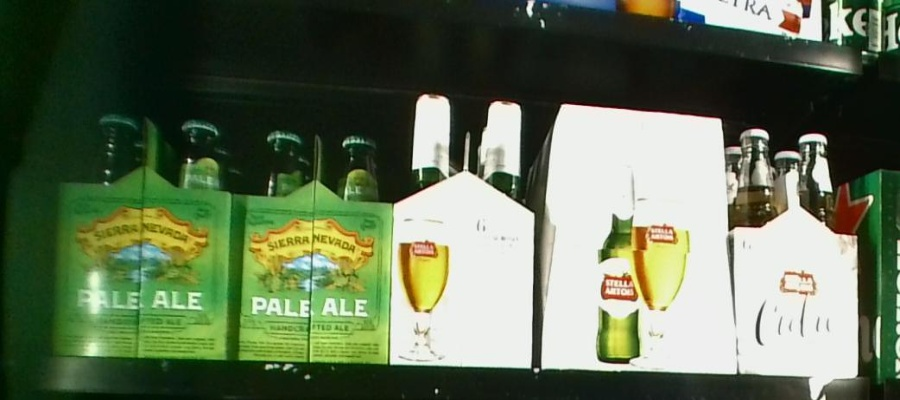bottle: (541, 95, 732, 376), (47, 118, 231, 359), (233, 116, 392, 363), (396, 90, 536, 370), (733, 120, 862, 376)
